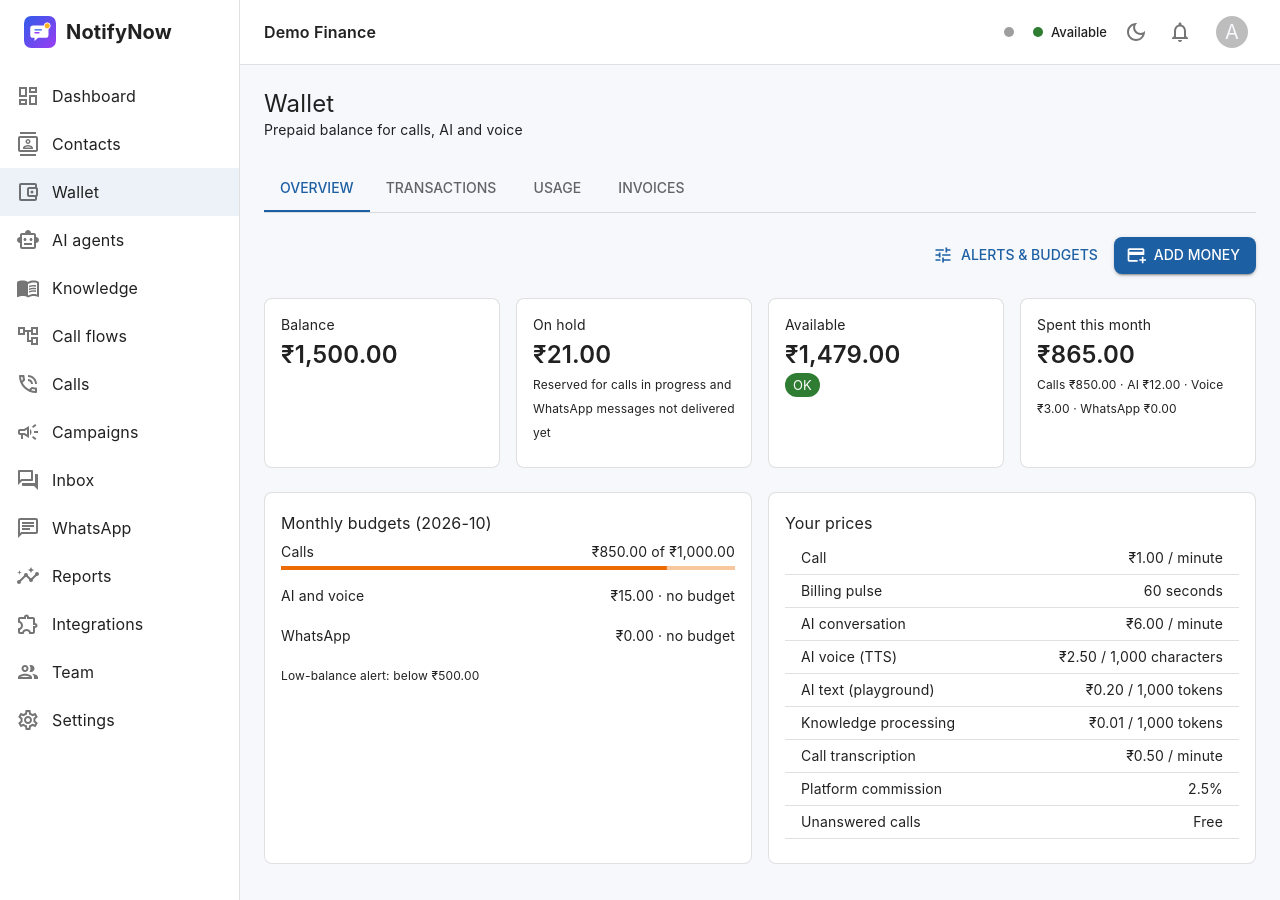
Test: wallet overview › shows a server error when saving settings fails, and cancels
The image size is (1280, 900).
Click the button "Alerts & budgets": (1017,255) [929,237,1106,274]
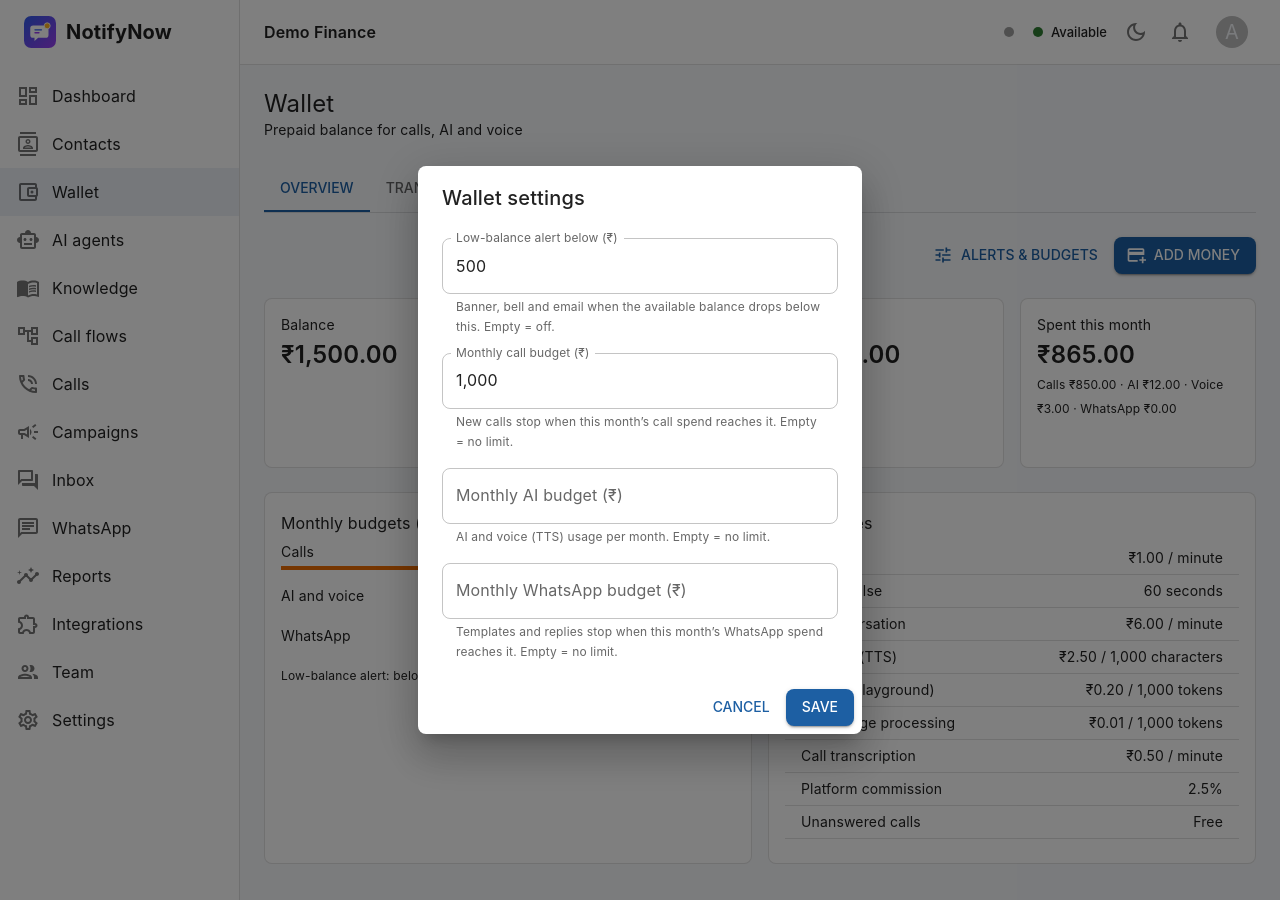
Click the button "Save": (820,708) [786,689,854,726]
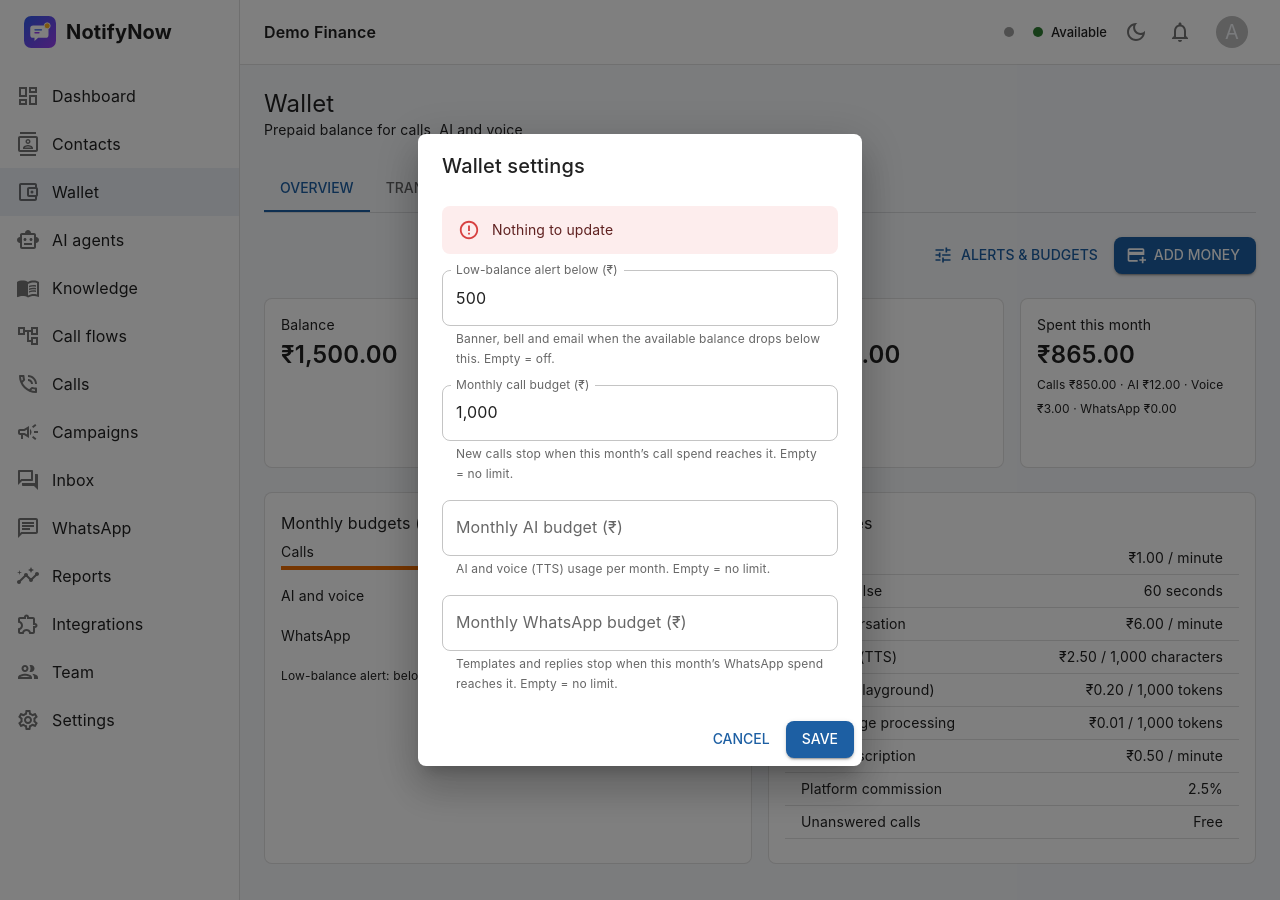
Expected: the text "Nothing to update" is shown, [492,221,613,238]
Click the button "Cancel": (741,740) [705,721,778,758]
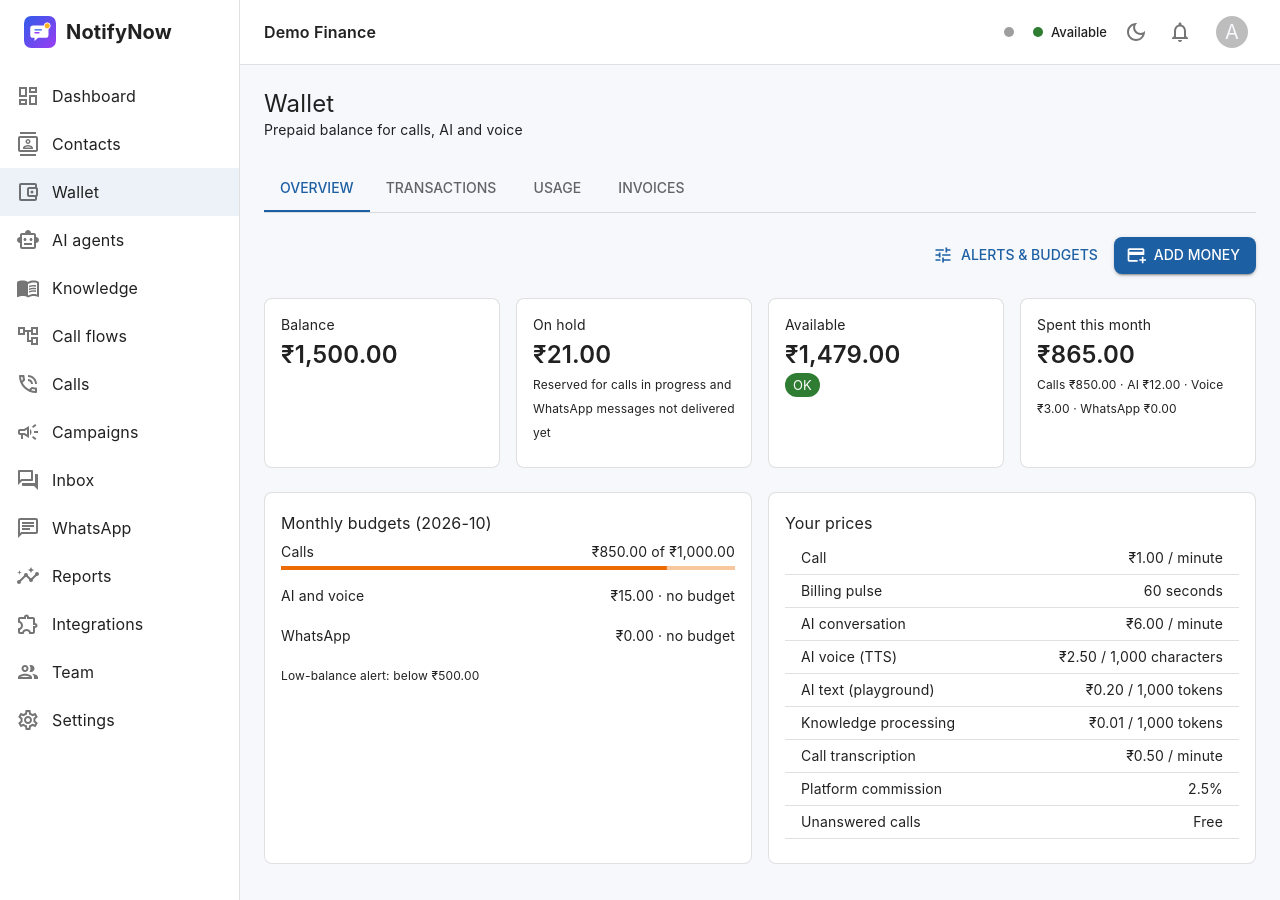
Expected: the dialog is gone
